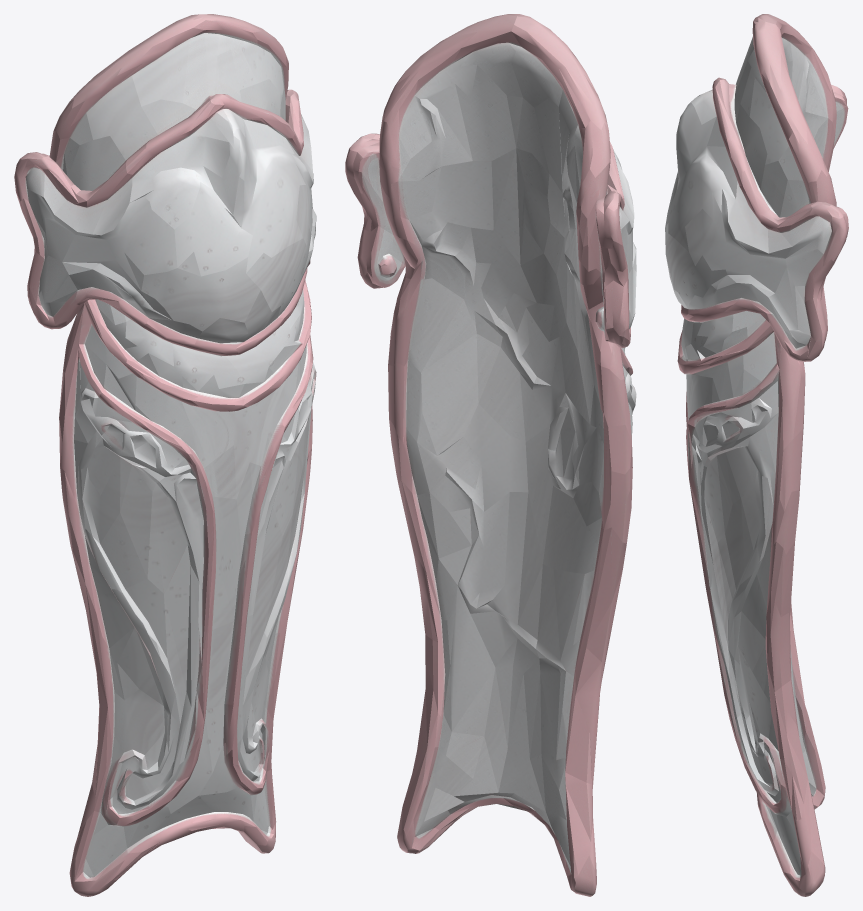
File: diddy_armor_greave.glb
The picture shows the model from 3 angles, left to right: view 1: azimuth 30°, elevation 25°; view 2: azimuth 150°, elevation 25°; view 3: azimuth 270°, elevation 25°; orthographic projection. The views are drawn at different scales.
Parts seen in each view (by area): view 1: Mesh_0; view 2: Mesh_0; view 3: Mesh_0.
Part boxes in pixels (x1,y1,x2,y2): Mesh_0: (14, 14, 316, 896); Mesh_0: (345, 14, 636, 896); Mesh_0: (665, 14, 848, 896).
Size of the model in its own units: 0.6446 by 1.9 by 0.3804.
1 material, 1 textured.
